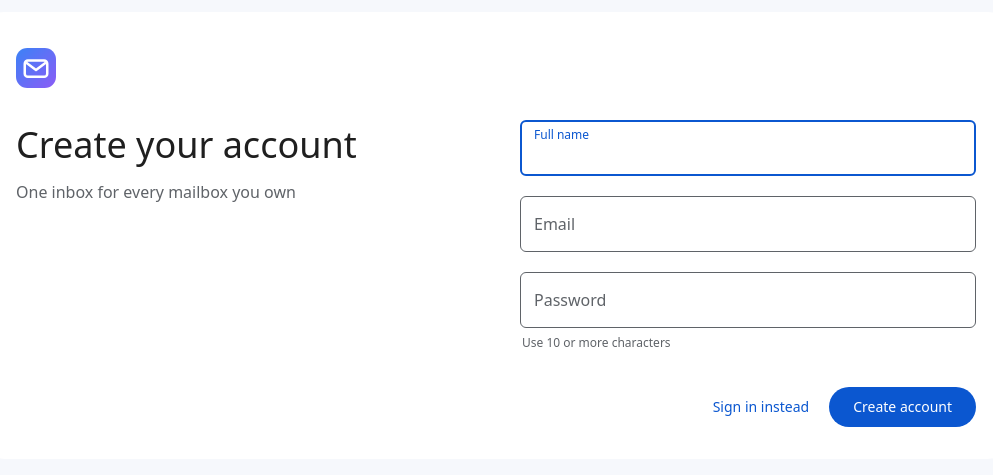
it: SignUpPage › shows a taken email from the server
In the field labelled "Full name": (748, 148) [520,120,976,176], type "A"
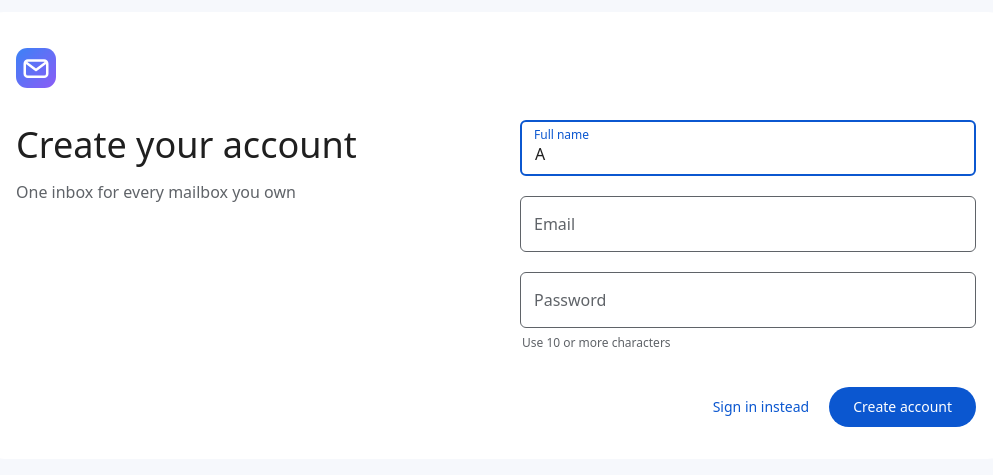
In the field labelled "Email": (748, 224) [520,196,976,252], type "taken@onebox.dev"
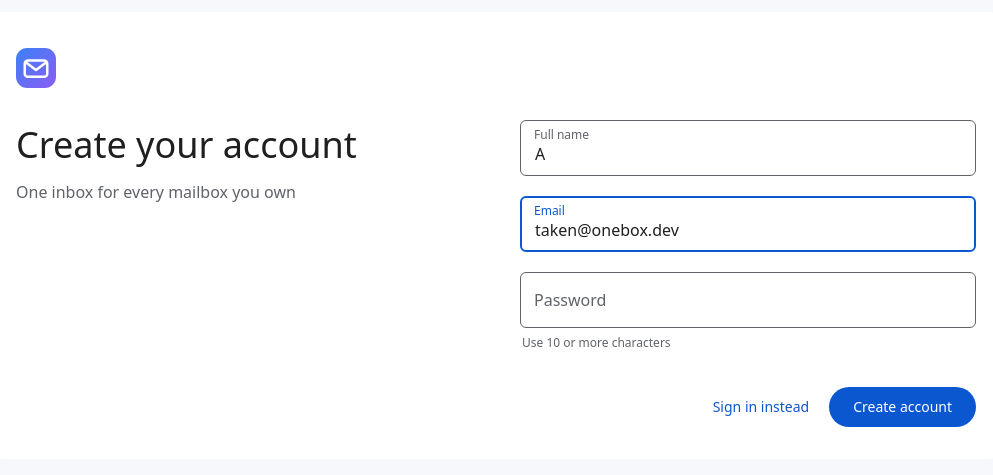
In the password field labelled "Password": (748, 300) [520,272,976,328], type "long-enough-pw"
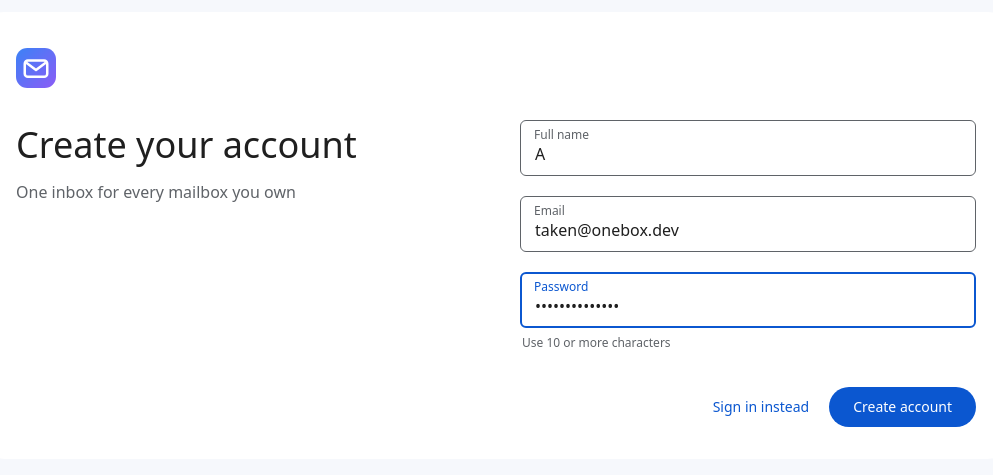
Click the button "Create account": (903, 406) [829,386,976,426]
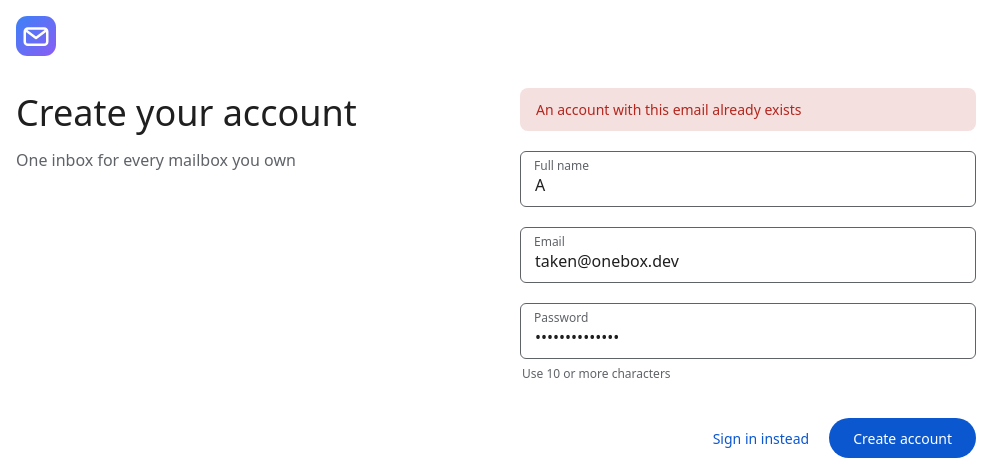
Result: the message shows "already exists" at [536,100,802,119]
